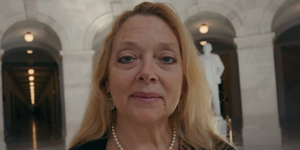bare: (103, 66, 185, 119)
